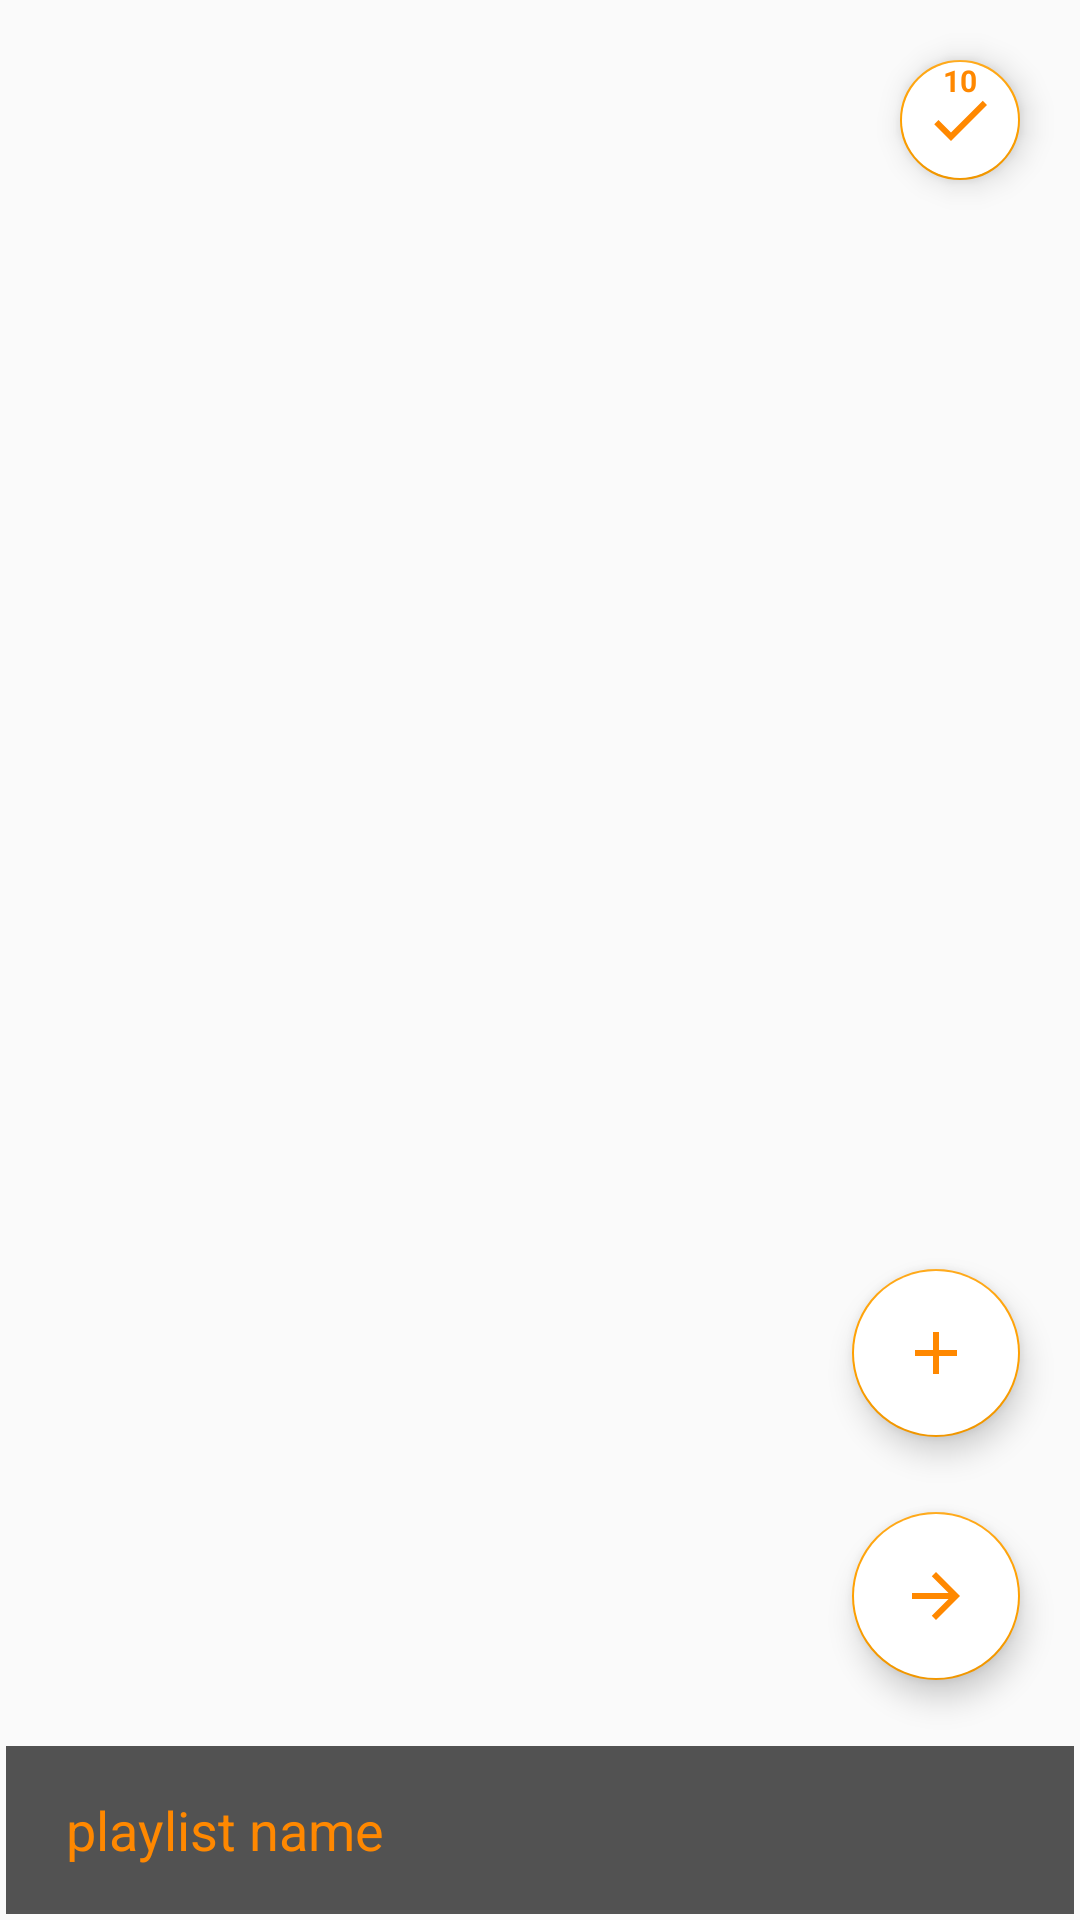

Icons on this 1080x1920 Android screen, each with its box as (x1,y1,x2,y2):
addsong: (852,1269,1020,1437)
arrow forward: (852,1512,1020,1680)
check: (900,60,1020,180)
